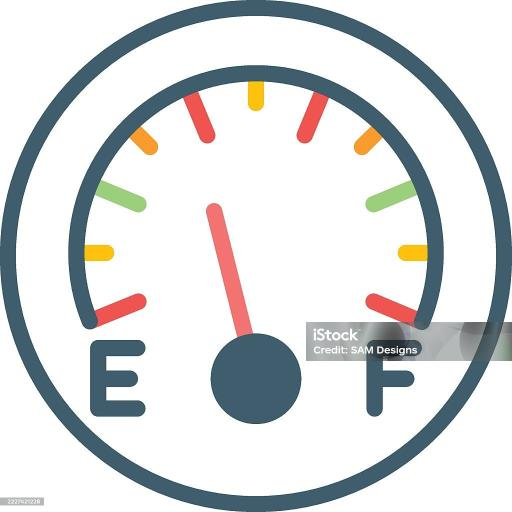empty: (90, 336, 152, 423)
full: (360, 342, 429, 416)
guage_area: (57, 65, 454, 452)
needle_center: (206, 334, 304, 422)
needle_tip: (199, 200, 234, 229)
